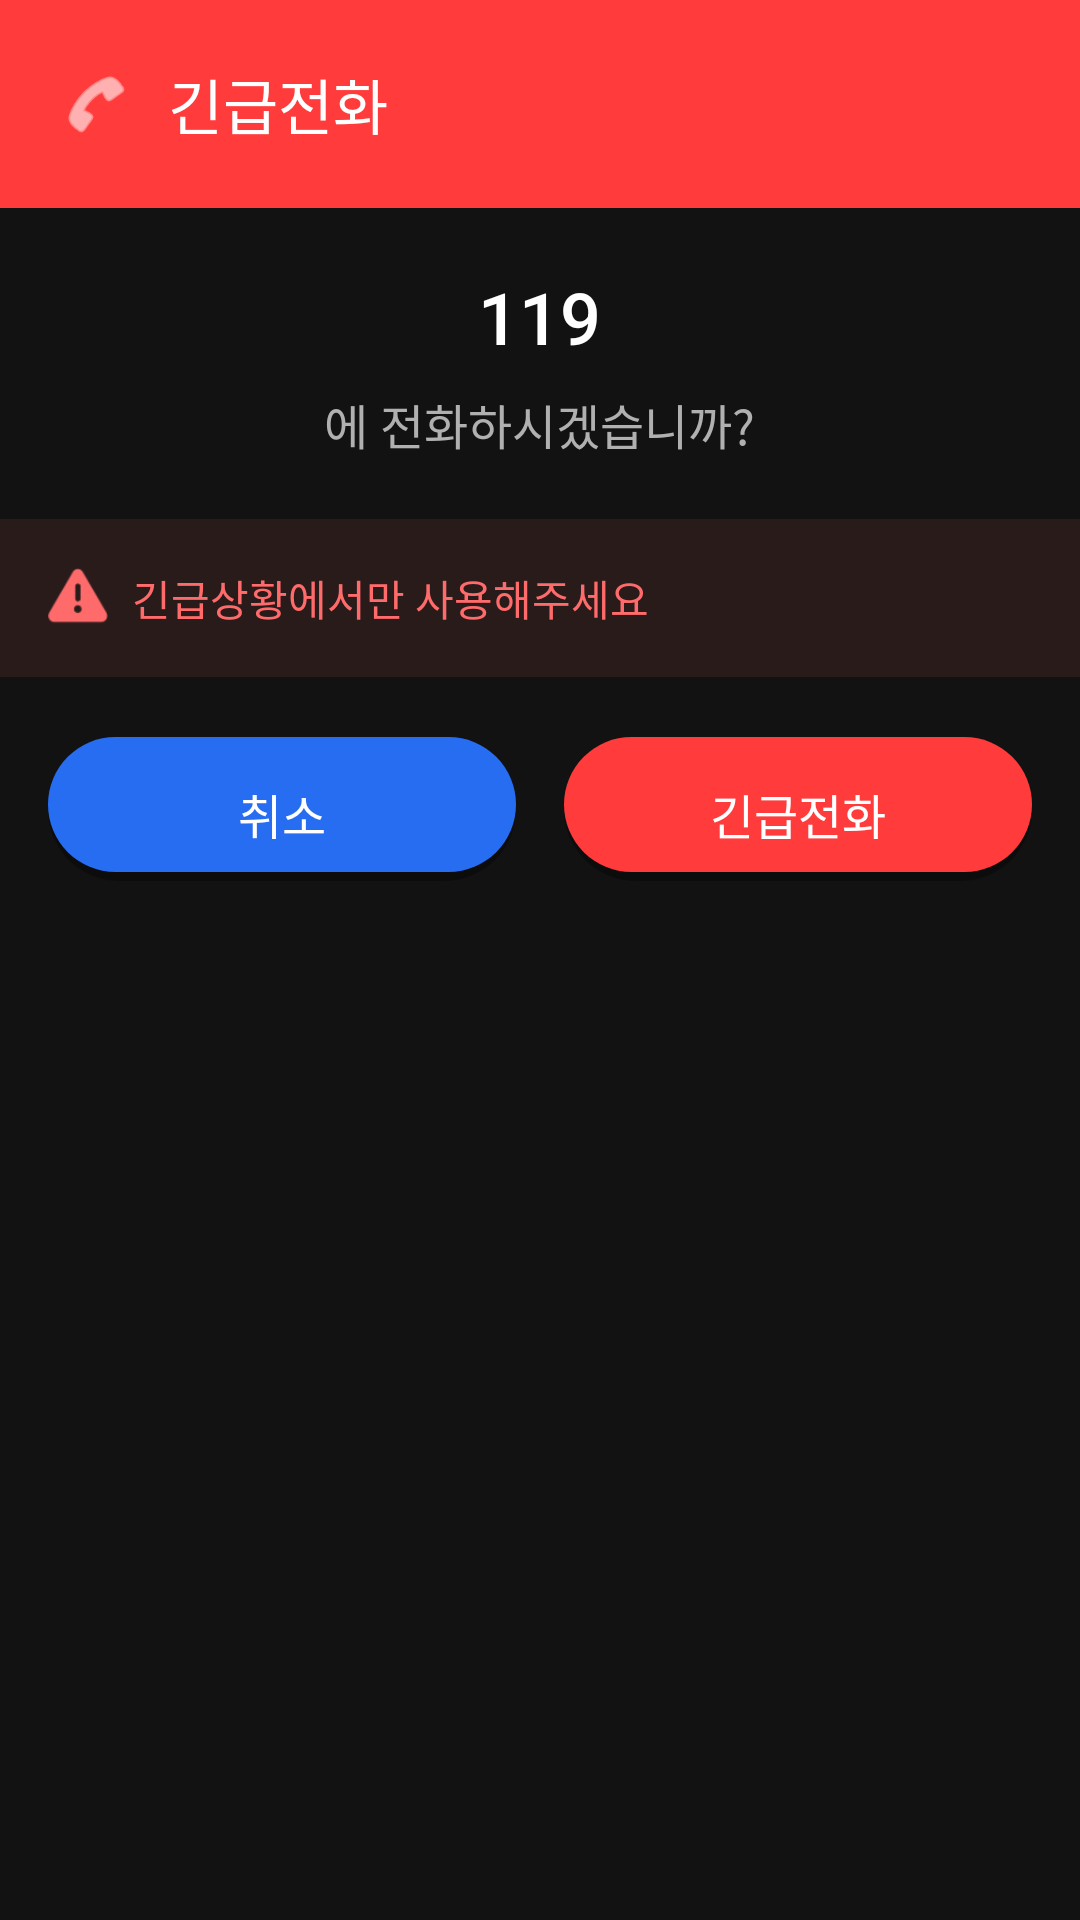

Icon bounding boxes for this 1080px x 1920px phone screenshot, format {"left": x1, "top": y1, "right": x2, "bottom": y2}:
alert: {"left": 48, "top": 568, "right": 108, "bottom": 623}
call: {"left": 68, "top": 76, "right": 125, "bottom": 132}
